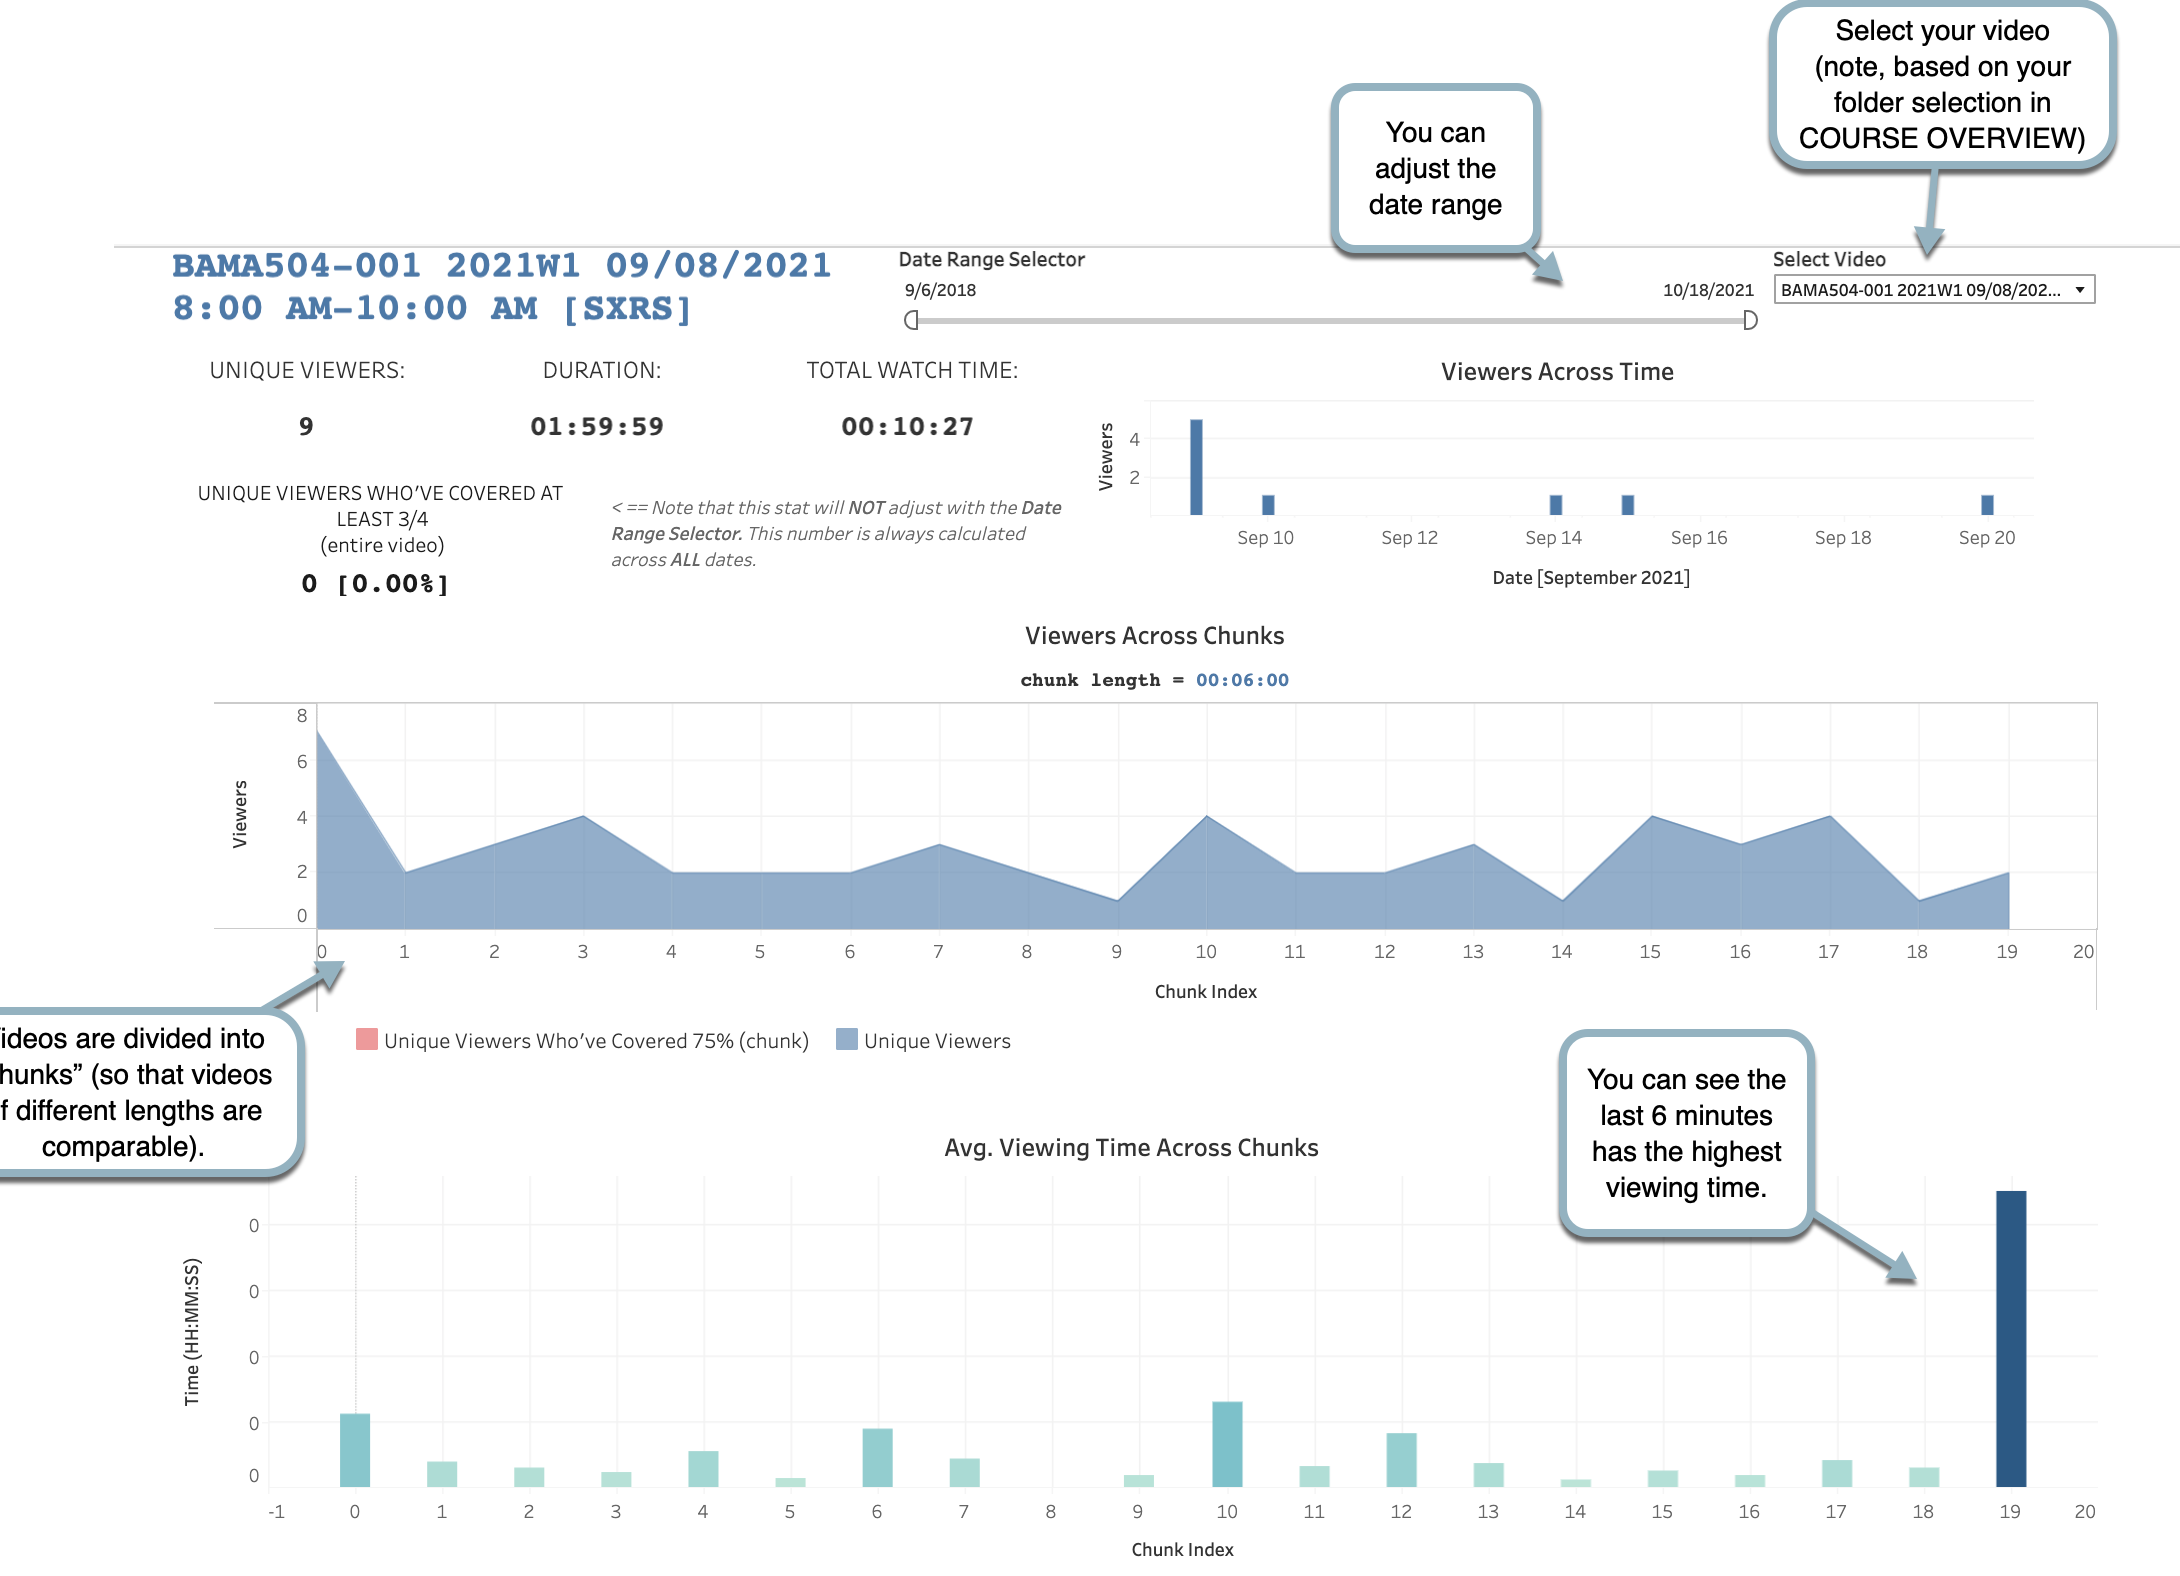

The page's visual inventory and layout, read from the dashboard file:
{"tool":"tableau","page":{"name":"VIDEO OVERVIEW","canvas":[1400,1000],"ordinal":2},"visuals":[{"type":"worksheet","box":[0,0,1400,1000]},{"type":"worksheet","param":"horz","box":[8,8,1384,984]},{"type":"worksheet","box":[8,8,1384,984]},{"type":"worksheet","box":[8,8,27,984]},{"type":"worksheet","box":[35,8,1326.9,45.4]},{"type":"worksheet","box":[1361.9,8,30.1,984]},{"type":"worksheet","param":"horz","box":[35,53.4,1326.9,890.9]},{"type":"worksheet","box":[35,53.4,1288.9,890.9]},{"type":"worksheet","title":"SESSION NAME","mark":"Automatic","box":[35,53.4,485.7,65.4]},{"type":"worksheet","title":"UNIQUE VIEWS","mark":"Automatic","param":"[federated.07qwzvz0tfr3iy10f38r70ufgnph].[none:Date:qk]","box":[520.7,53.4,580.3,65.4]},{"type":"worksheet","title":"SESSION NAME","mark":"Automatic","param":"[federated.07qwzvz0tfr3iy10f38r70ufgnph].[Action (Session Name)]","box":[1101,53.4,222.9,65.4]},{"type":"worksheet","box":[1323.9,53.4,38,890.9]},{"type":"worksheet","title":"UNIQUE VIEWS","mark":"Automatic","box":[35,118.8,195.2,83.4]},{"type":"worksheet","title":"DURATION","mark":"Automatic","box":[230.3,118.8,195.5,83.4]},{"type":"worksheet","title":"TOTAL WATCH  TIME","mark":"Automatic","box":[425.8,118.8,216.7,83.4]},{"type":"worksheet","title":"VIEWERS ACROSS TIME","mark":"Bar","rows":["Calculation_706009657121935362"],"cols":["Date"],"box":[642.5,118.8,630.7,176]},{"type":"worksheet","box":[1273.3,118.8,50.7,176]},{"type":"worksheet","title":"COUNT COMPLETED 75%","mark":"Automatic","box":[35,202.1,295.1,92.7]},{"type":"worksheet","box":[330.1,202.1,312.5,92.7]},{"type":"worksheet","box":[35,294.8,59.3,315.2]},{"type":"worksheet","title":"VIEWS ACROSS CHUNKS (HH:MM:SS)","mark":"Area","rows":["Calculation_706009657121935362","Calculation_706009657124524035"],"cols":["chunk_start (copy)_188940129082916864"],"box":[94.4,294.8,1229.5,277.1]},{"type":"worksheet","box":[94.4,571.9,63.3,38.1]},{"type":"worksheet","title":"VIEWS ACROSS CHUNKS (HH:MM:SS)","mark":"Area","rows":["Calculation_706009657121935362","Calculation_706009657124524035"],"cols":["chunk_start (copy)_188940129082916864"],"param":"[federated.07qwzvz0tfr3iy10f38r70ufgnph].[:Measure Names]","box":[157.6,571.9,1166.3,38.1]},{"type":"worksheet","box":[35,610,1288.9,26.4]},{"type":"worksheet","title":"CHUNKS BY TIME SPENT (AVERAGE)","mark":"Bar","rows":["total_time_spent (copy)_188940129090297859"],"cols":["chunk_start (copy)_188940129082916864"],"box":[35,636.5,1288.9,307.9]},{"type":"worksheet","title":"CHUNKS BY TIME SPENT (AVERAGE)","mark":"Bar","rows":["total_time_spent (copy)_188940129090297859"],"cols":["chunk_start (copy)_188940129082916864"],"param":"[federated.07qwzvz0tfr3iy10f38r70ufgnph].[avg:Calculation_1369235072230006784:qk","box":[35,944.3,351.4,47.7]},{"type":"worksheet","box":[386.5,944.3,975.5,47.7]}]}

Visuals, with their boxes in screenshot pixels (x1, y1, x2, y2), scaled from the page's 1400x1000 canvas onto the 2180x1576 screenshot:
worksheet: box(0, 0, 2179, 1575)
worksheet: box(12, 13, 2168, 1563)
worksheet: box(12, 13, 2168, 1563)
worksheet: box(12, 13, 54, 1563)
worksheet: box(54, 13, 2121, 84)
worksheet: box(2121, 13, 2168, 1563)
worksheet: box(54, 84, 2121, 1488)
worksheet: box(54, 84, 2062, 1488)
"SESSION NAME" worksheet: box(54, 84, 811, 187)
"UNIQUE VIEWS" worksheet: box(811, 84, 1714, 187)
"SESSION NAME" worksheet: box(1714, 84, 2062, 187)
worksheet: box(2062, 84, 2121, 1488)
"UNIQUE VIEWS" worksheet: box(54, 187, 358, 319)
"DURATION" worksheet: box(359, 187, 663, 319)
"TOTAL WATCH  TIME" worksheet: box(663, 187, 1000, 319)
"VIEWERS ACROSS TIME" worksheet (Bar marks): box(1000, 187, 1983, 465)
worksheet: box(1983, 187, 2062, 465)
"COUNT COMPLETED 75%" worksheet: box(54, 319, 514, 465)
worksheet: box(514, 319, 1001, 465)
worksheet: box(54, 465, 147, 961)
"VIEWS ACROSS CHUNKS (HH:MM:SS)" worksheet (Area marks): box(147, 465, 2062, 901)
worksheet: box(147, 901, 246, 961)
"VIEWS ACROSS CHUNKS (HH:MM:SS)" worksheet (Area marks): box(245, 901, 2062, 961)
worksheet: box(54, 961, 2062, 1003)
"CHUNKS BY TIME SPENT (AVERAGE)" worksheet (Bar marks): box(54, 1003, 2062, 1488)
"CHUNKS BY TIME SPENT (AVERAGE)" worksheet (Bar marks): box(54, 1488, 602, 1563)
worksheet: box(602, 1488, 2121, 1563)
